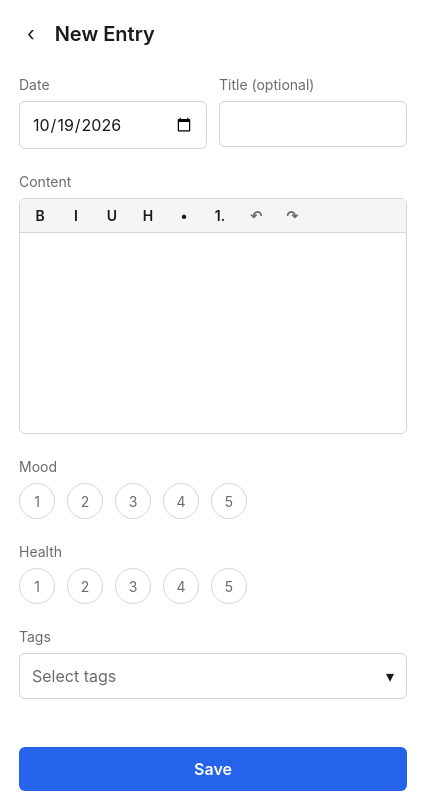
it: EntryEditorPage › requires a mood and health rating before saving
Click the field named "Content": (213, 333) [20, 233, 406, 433]
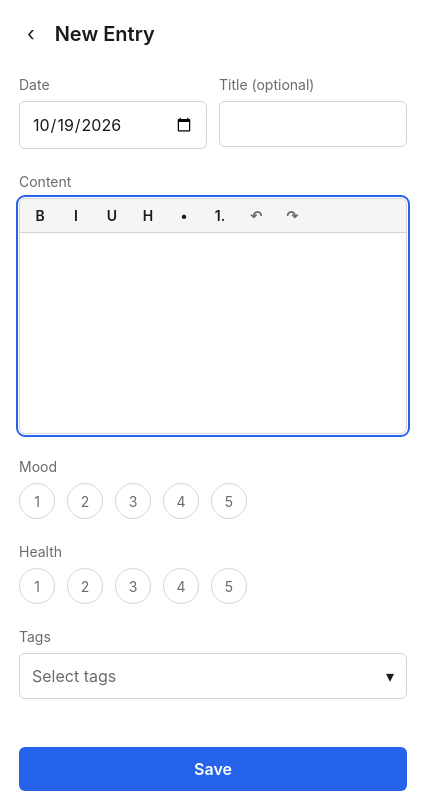
Type keys "Something happened"
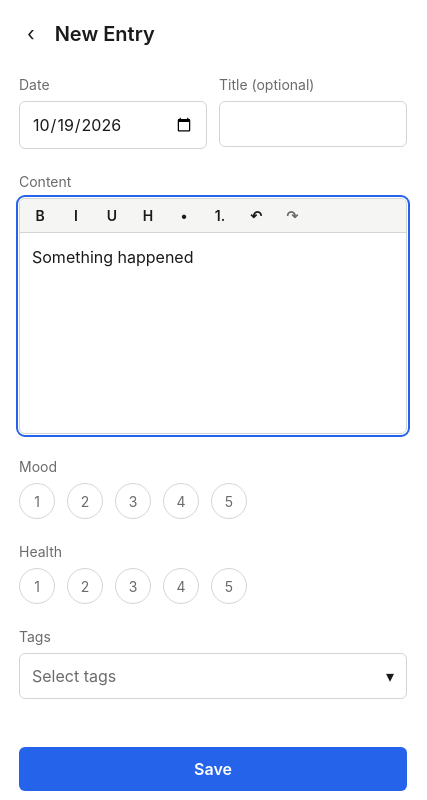
Click the button "Save": (213, 769) [19, 747, 407, 791]
(page scrolled)
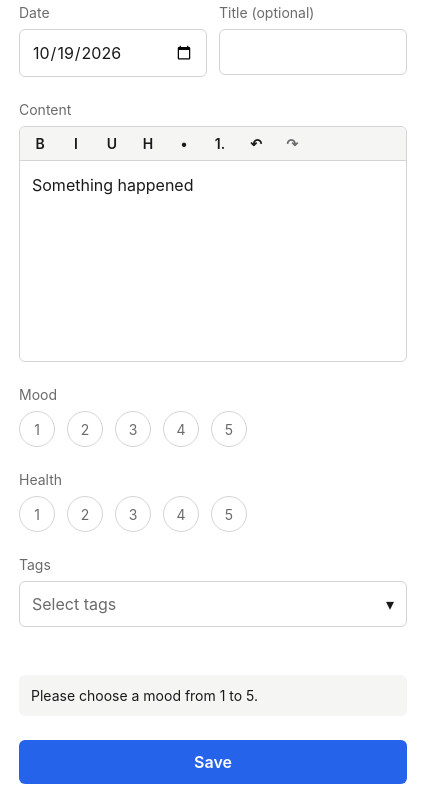
Now the message reads "Please choose a mood from 1 to 5.", box [31, 687, 258, 704]
